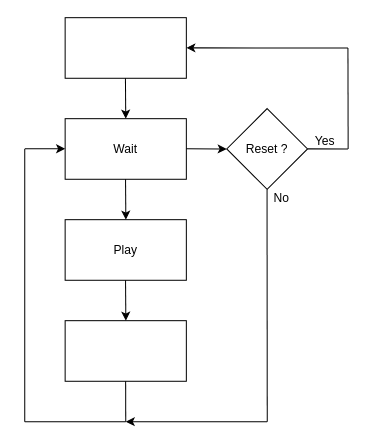
This 374x447 diagram has some shape labels left out. Each missing label, with the centre of its shape:
"Display" belongs at point 125,350.
"Initialisation" belongs at point 125,47.
